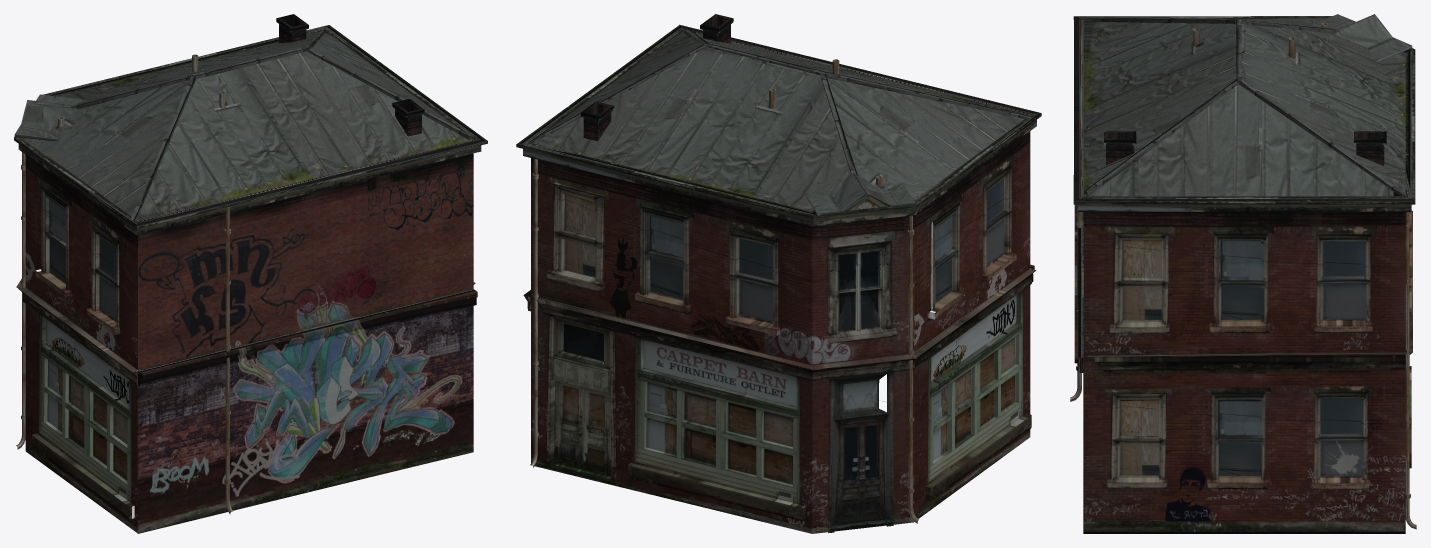
File: carpet-barn-size-4.glb
The picture shows the model from 3 angles, left to right: view 1: azimuth 30°, elevation 25°; view 2: azimuth 150°, elevation 25°; view 3: azimuth 270°, elevation 25°; orthographic projection. The views are drawn at different scales.
Visible parts, largest first — view 1: untitled Variant; view 2: untitled Variant; view 3: untitled Variant.
Part boxes in pixels (x1,y1,x2,y2): untitled Variant: (14,14,487,533); untitled Variant: (516,14,1041,533); untitled Variant: (1070,14,1416,533).
Size of the model in its own units: 11.45 by 11.65 by 9.04.
Materials: 3 (1 with a texture image).
